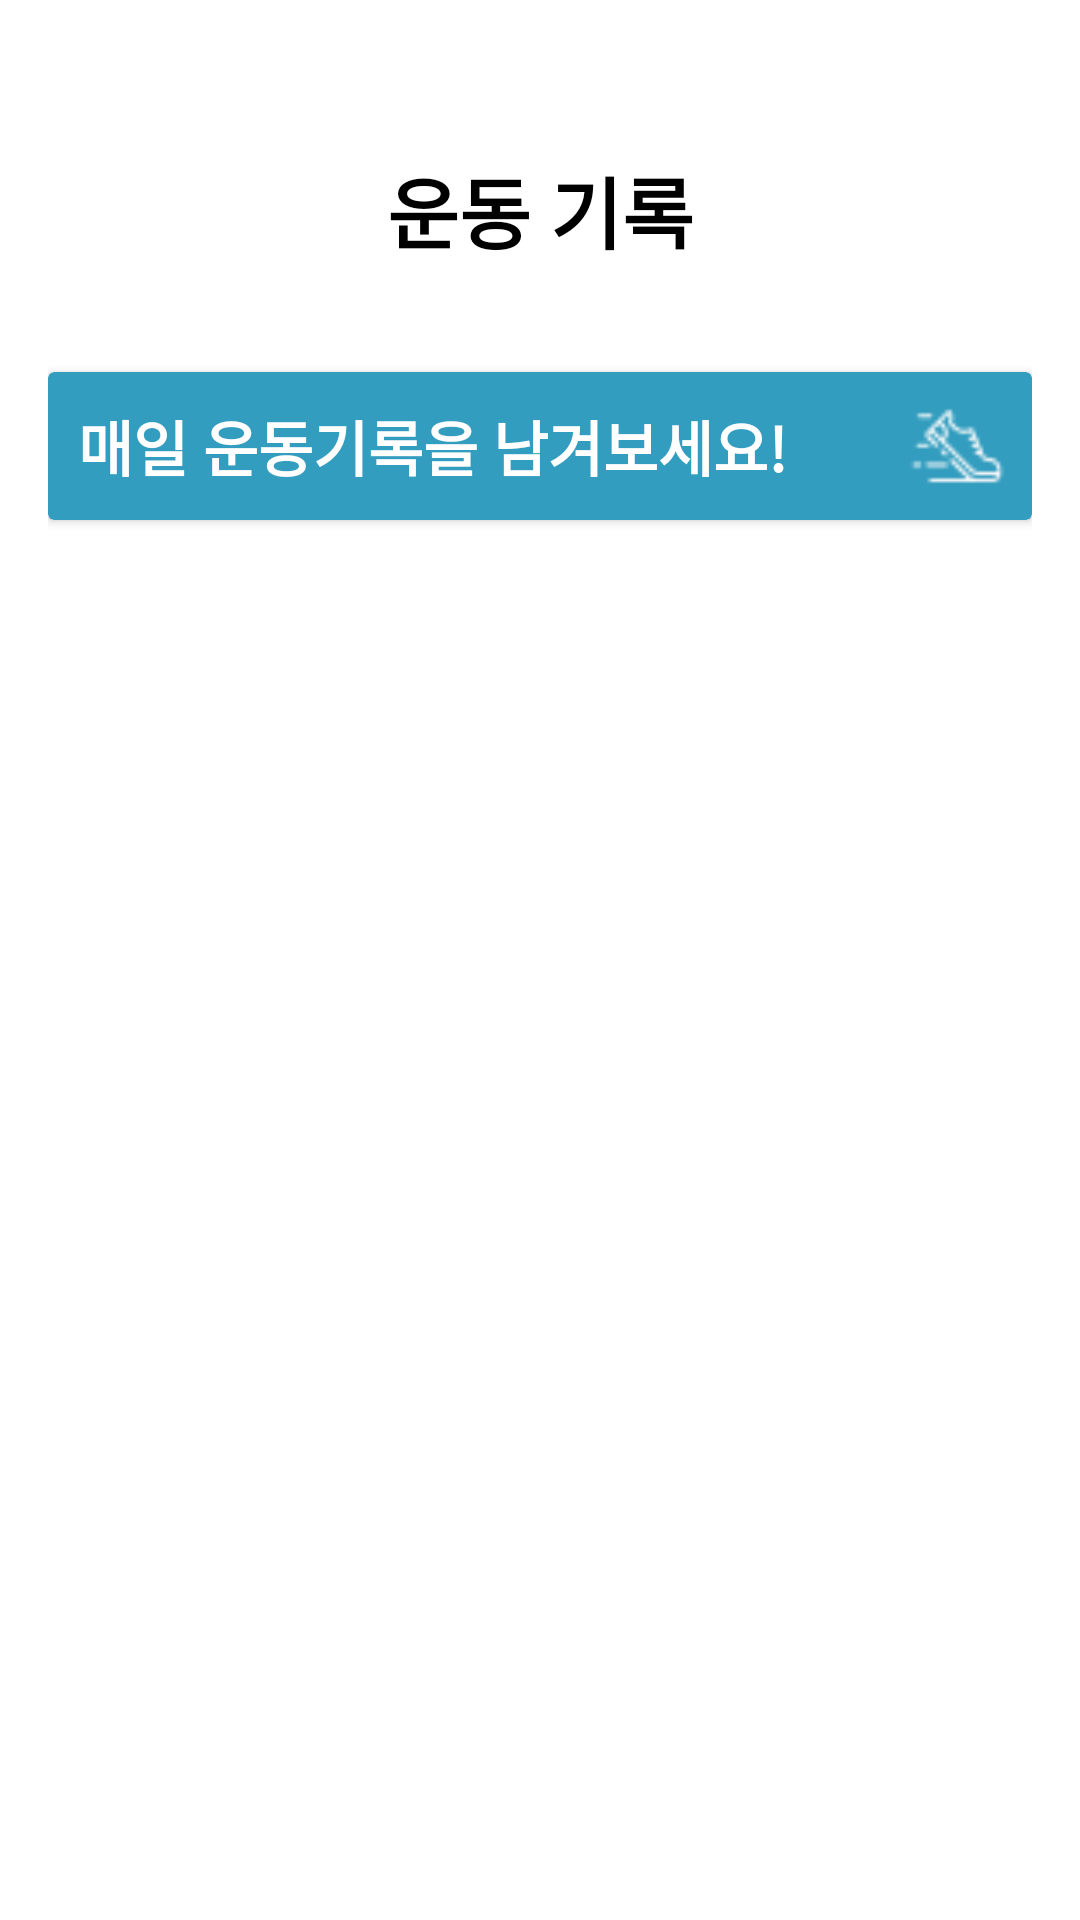

Screen size 1080×1920. Icon name, then its box in pixels as region(x1, y1, x2, y2):
record run: region(912, 409, 1003, 483)
